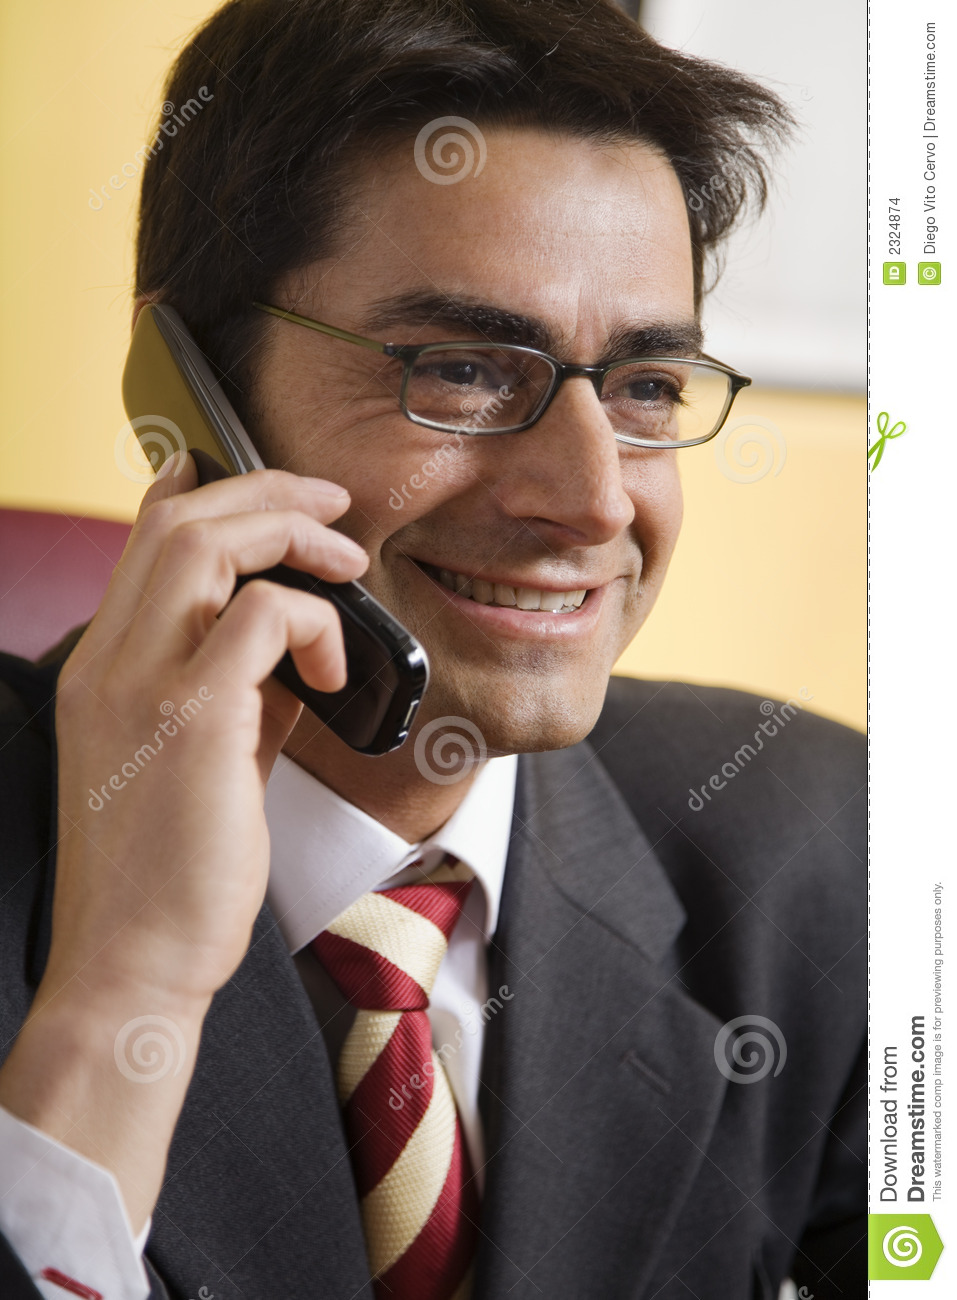phone: (117, 307, 424, 765)
talk: (45, 274, 705, 976)
